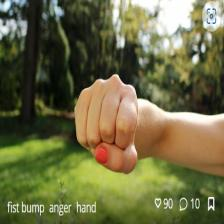five: (72, 72, 140, 180)
